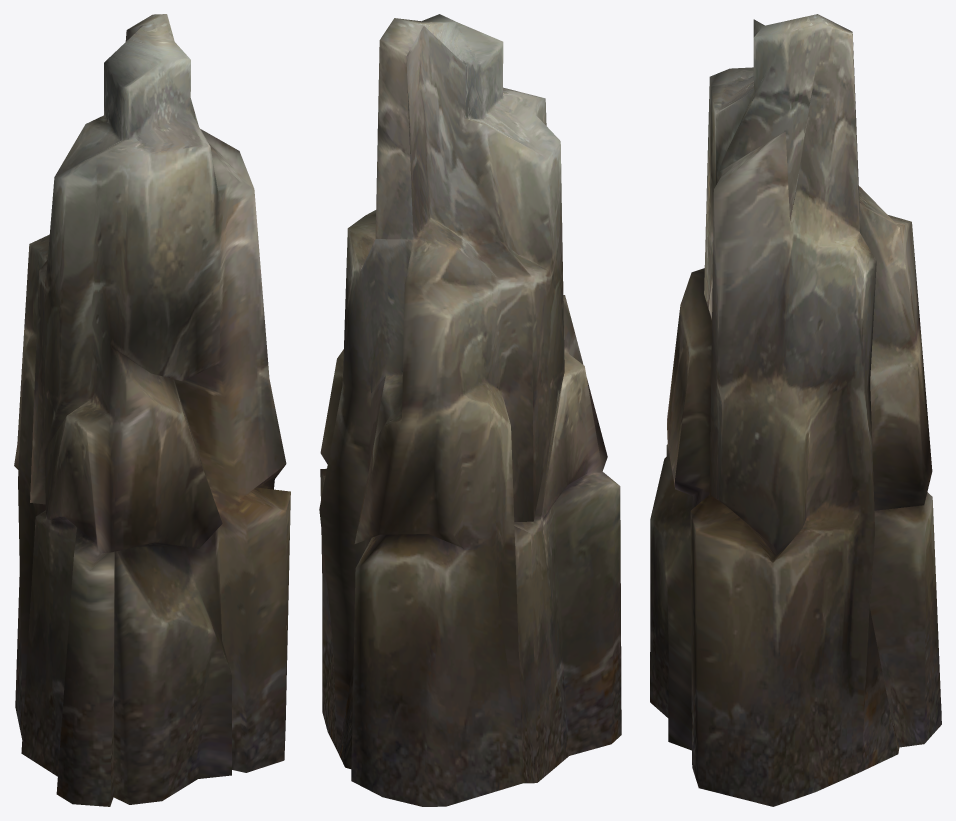
Rendered from borean_rocklarge_07.obj.
The picture shows the model from 3 angles, left to right: view 1: azimuth 30°, elevation 25°; view 2: azimuth 150°, elevation 25°; view 3: azimuth 270°, elevation 25°; orthographic projection. The views are drawn at different scales.
Visible parts, largest first — view 1: borean_rocklarge_07; view 2: borean_rocklarge_07; view 3: borean_rocklarge_07.
Boxes of the visible parts, x1,y1,x2,y2 form: borean_rocklarge_07: [14, 14, 290, 806]; borean_rocklarge_07: [319, 14, 621, 806]; borean_rocklarge_07: [650, 14, 941, 806].
Bounding box in the file's own units: 2.85 × 7.64 × 2.75.
1 material, 1 textured.
